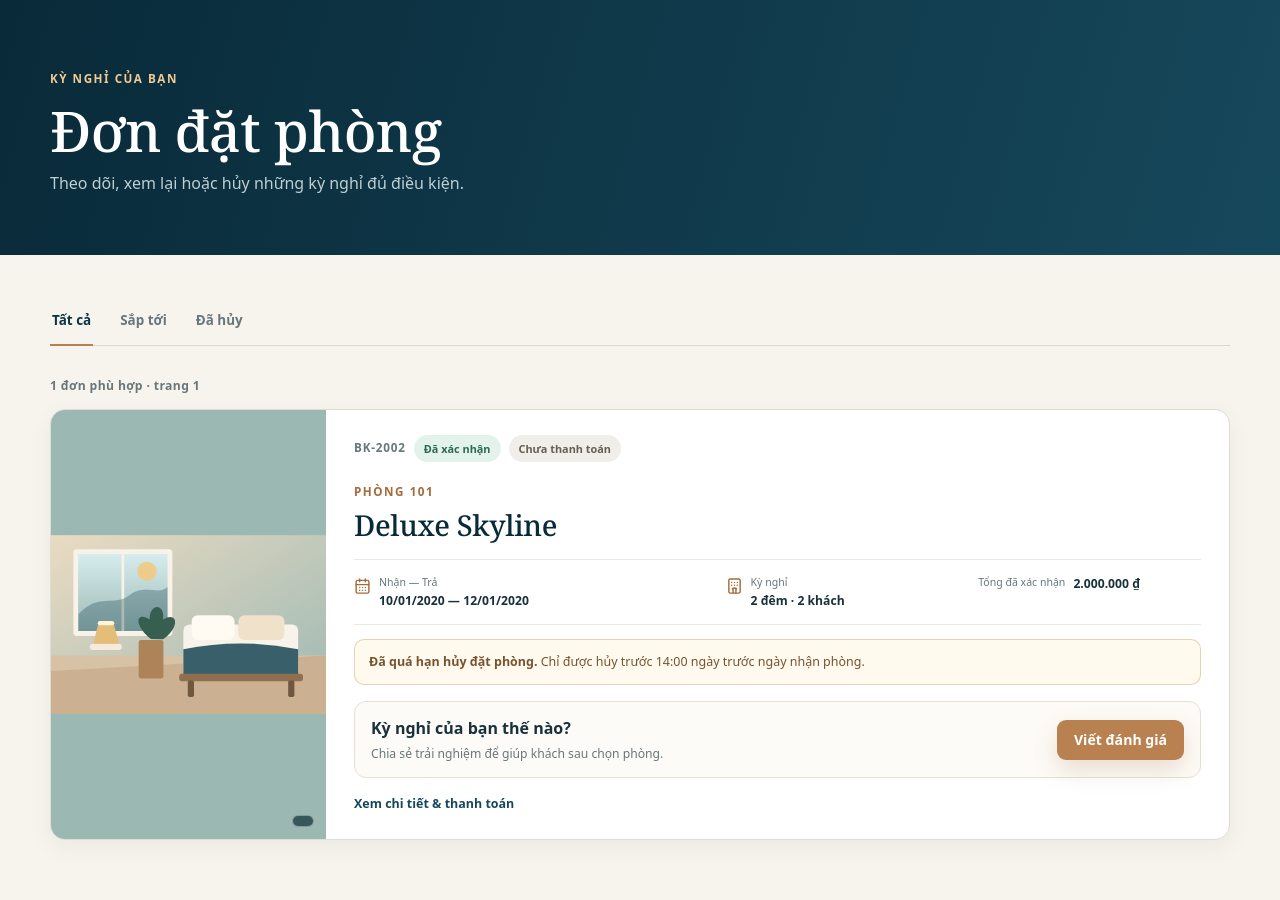
Test: MyBookingsPage reviews › refreshes the list when the backend says the booking was already reviewed
Click the button "Viết đánh giá" at point(1120, 740), box [1057,720,1184,760]
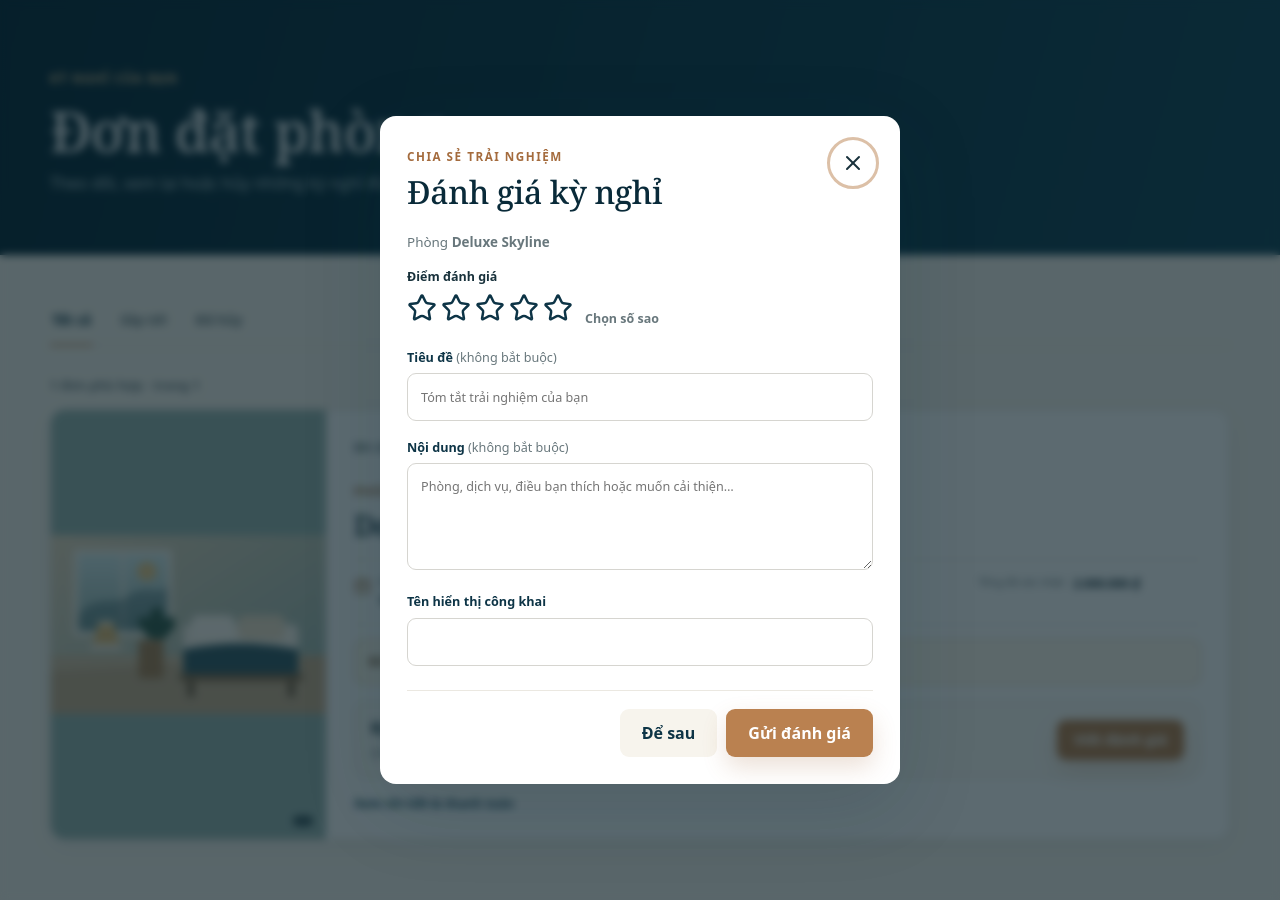
Click the radio button named "4 sao" at point(524, 308), box [509,293,539,323]
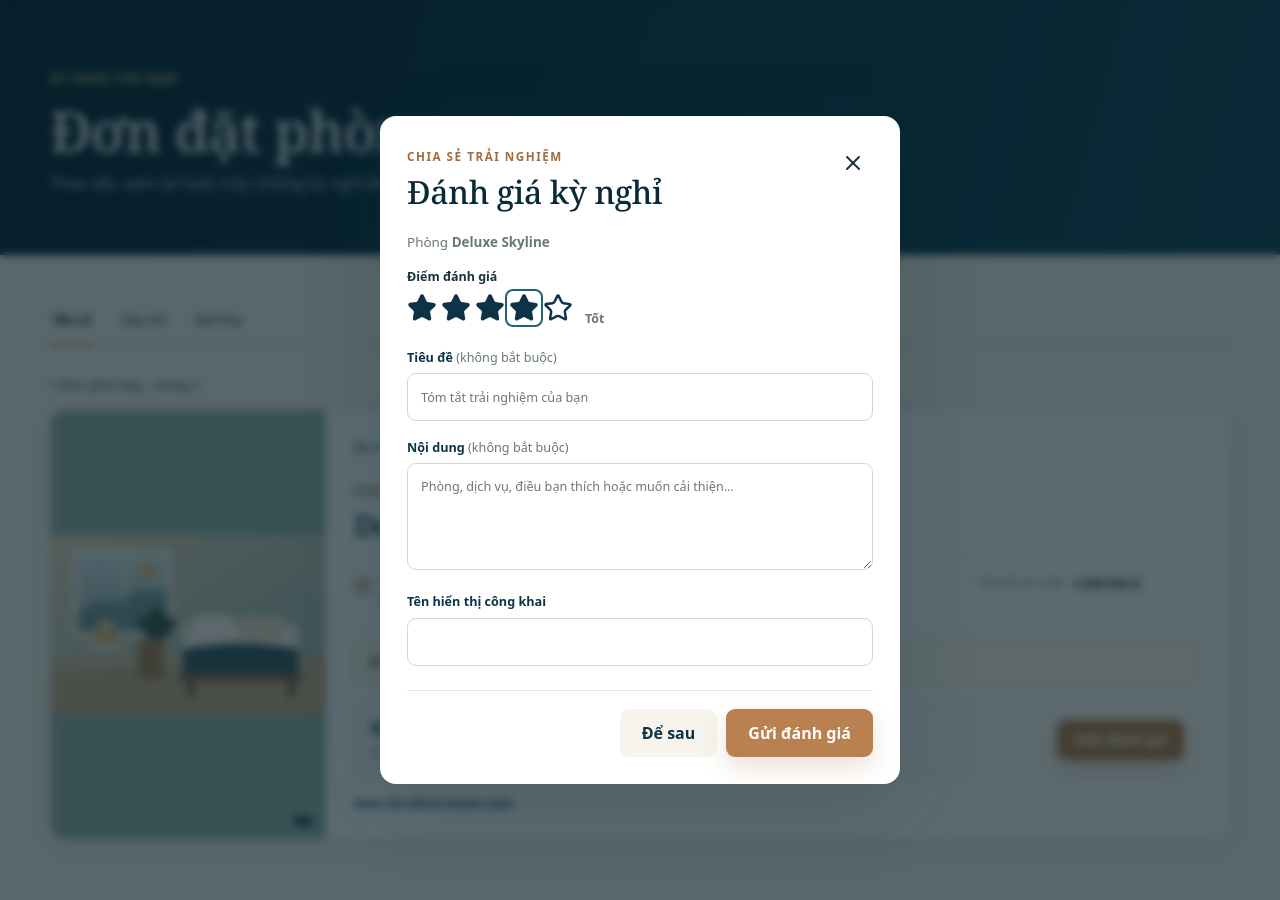
Type "An" into the field labelled "Tên hiển thị công khai" at point(640, 642), box [407,618,873,666]
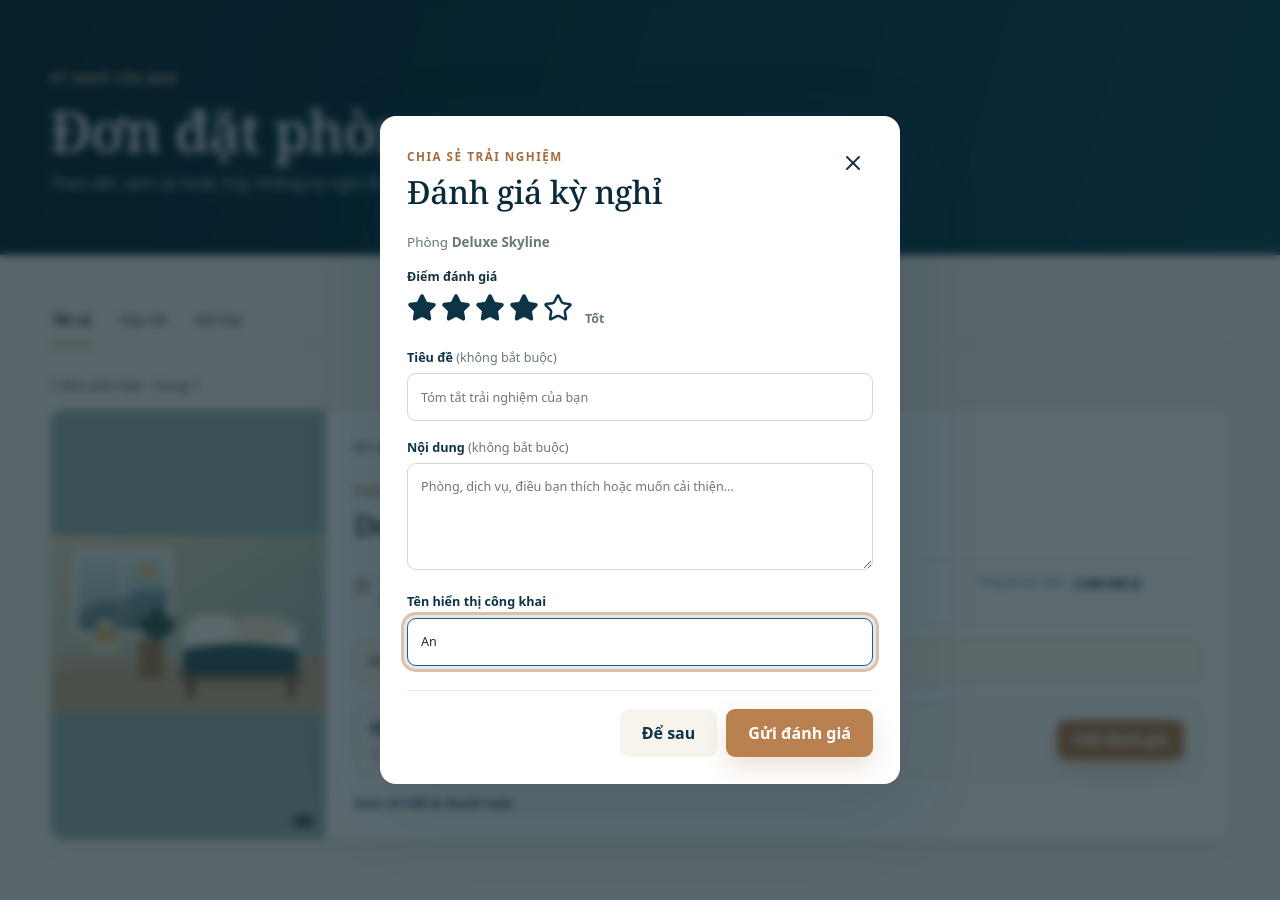
Click the button "Gửi đánh giá" at point(800, 733), box [726,709,873,757]
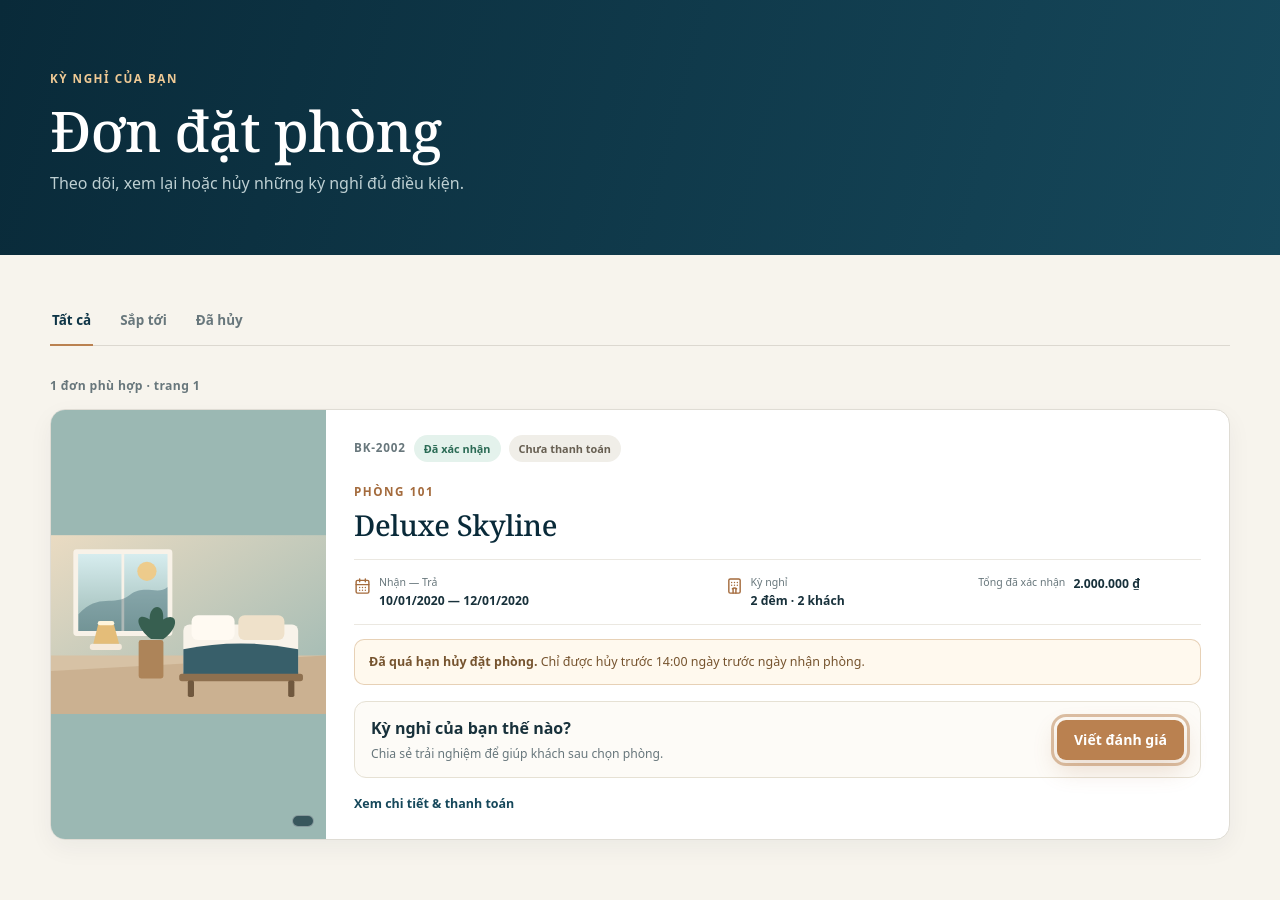
Now the dialog is gone
